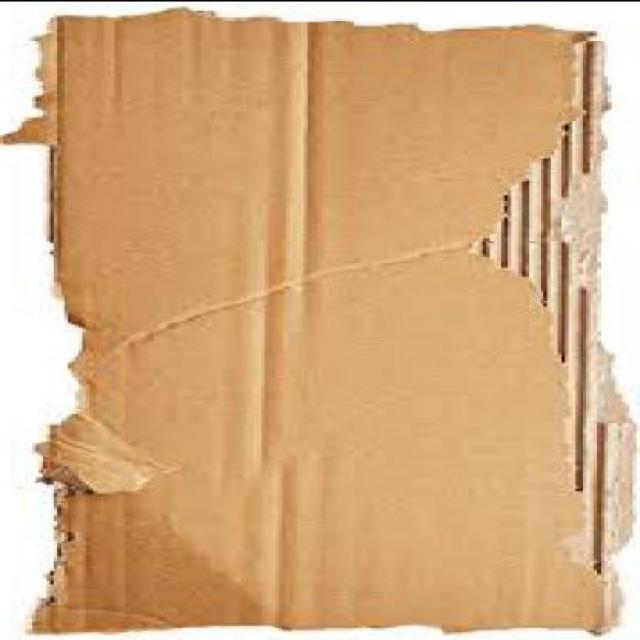CARDBOARD: (3, 6, 639, 639)
